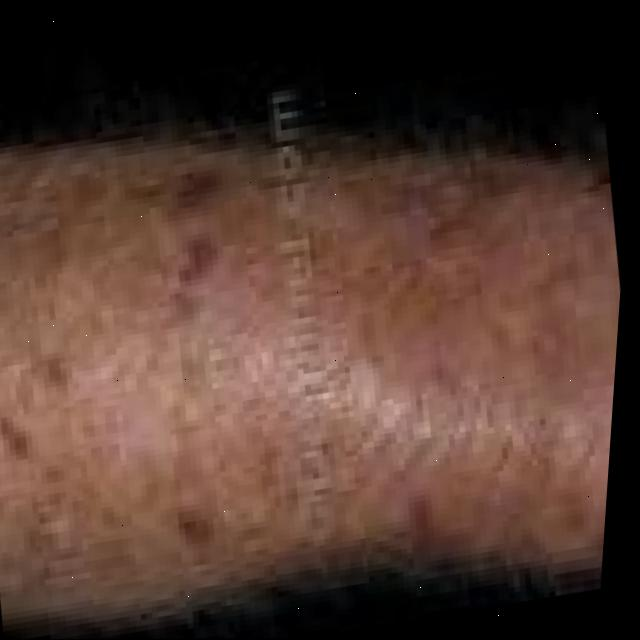Melasma: (161, 167, 249, 300), (367, 151, 476, 244), (394, 485, 449, 551), (0, 416, 26, 467)
